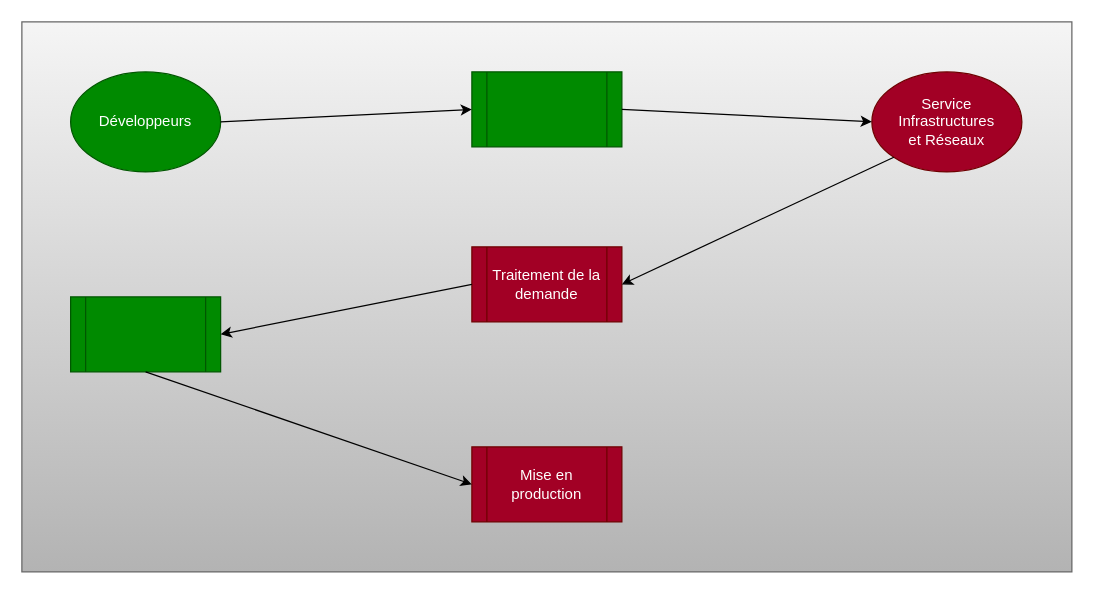
The diagram is 1094 pixels wide and 594 high, and some of its shapes have lost their labels. Here are the shapes that lost their labels. From the top down, the centre of each, then its label:
At (x=546, y=109): "Demande de VM".
At (x=145, y=334): "Qualification de l'application".
